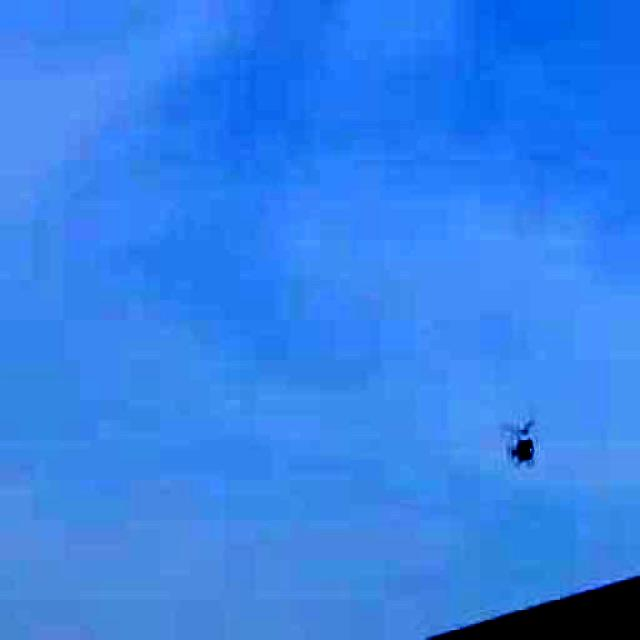drone: (495, 402, 558, 485)
